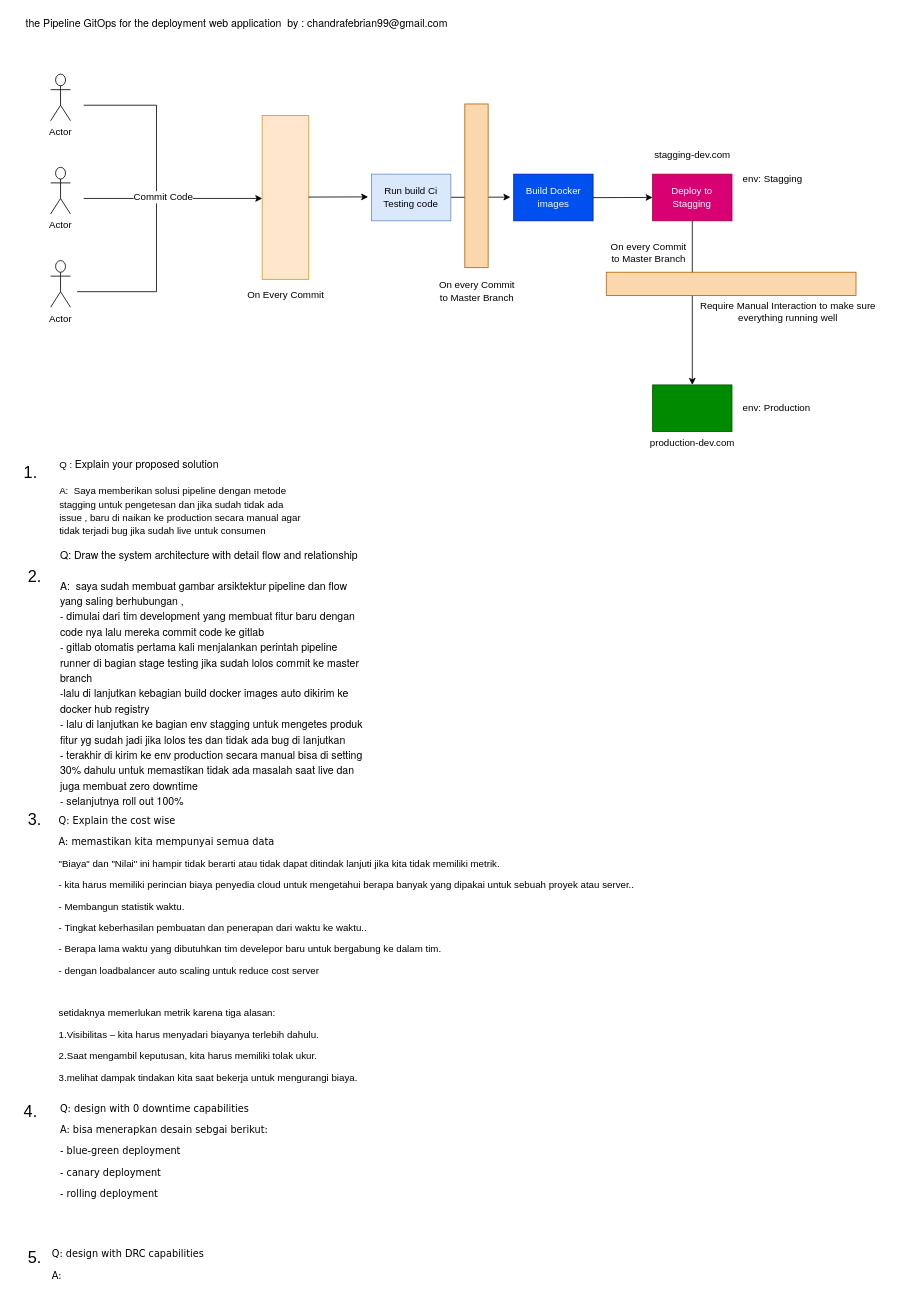
This 898x1311 diagram has some shape labels left out. The centre of each missing label's shape, as x and y in pixels:
Deploy to Production: (x=692, y=408)
GitLab: (x=285, y=197)
